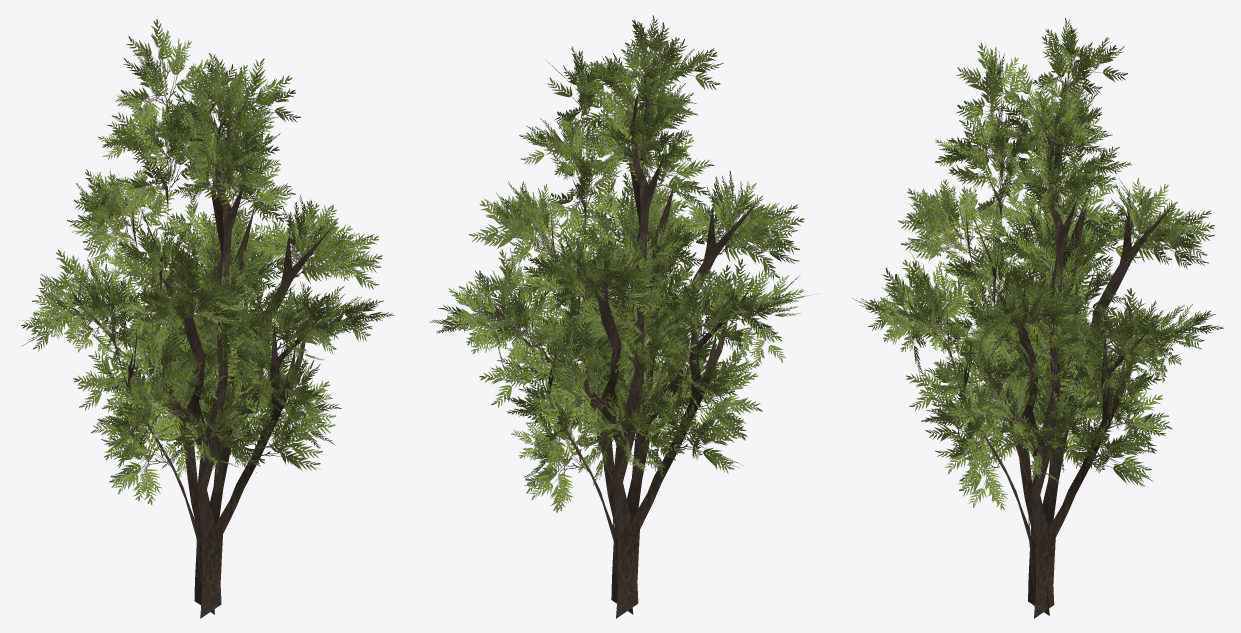
Rendered from tree_lp2.glb.
3 views of the same model, side by side, from view 1: azimuth 30°, elevation 25°; view 2: azimuth 150°, elevation 25°; view 3: azimuth 270°, elevation 25° (orthographic). The views are drawn at different scales.
Size of the model in its own units: 4.53 by 7.45 by 4.42.
Materials: 2 (2 with a texture image).
